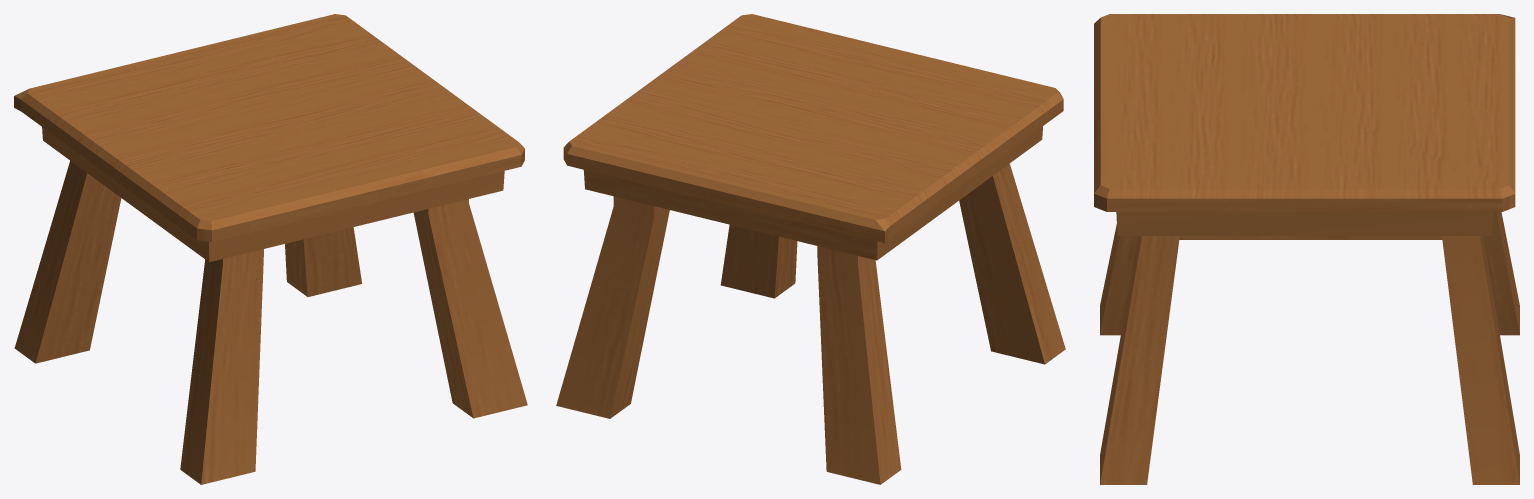
File: Stool_G.FBX
3 views of the same model, side by side, from view 1: azimuth 30°, elevation 25°; view 2: azimuth 150°, elevation 25°; view 3: azimuth 270°, elevation 25° (orthographic). The views are drawn at different scales.
Visible parts, largest first — view 1: Stool; view 2: Stool; view 3: Stool.
Boxes of the visible parts, x1,y1,x2,y2 form: Stool: (14,14,527,484); Stool: (556,14,1065,484); Stool: (1094,14,1519,484).
Bounding box in the file's own units: 121 × 91.5 × 120.
